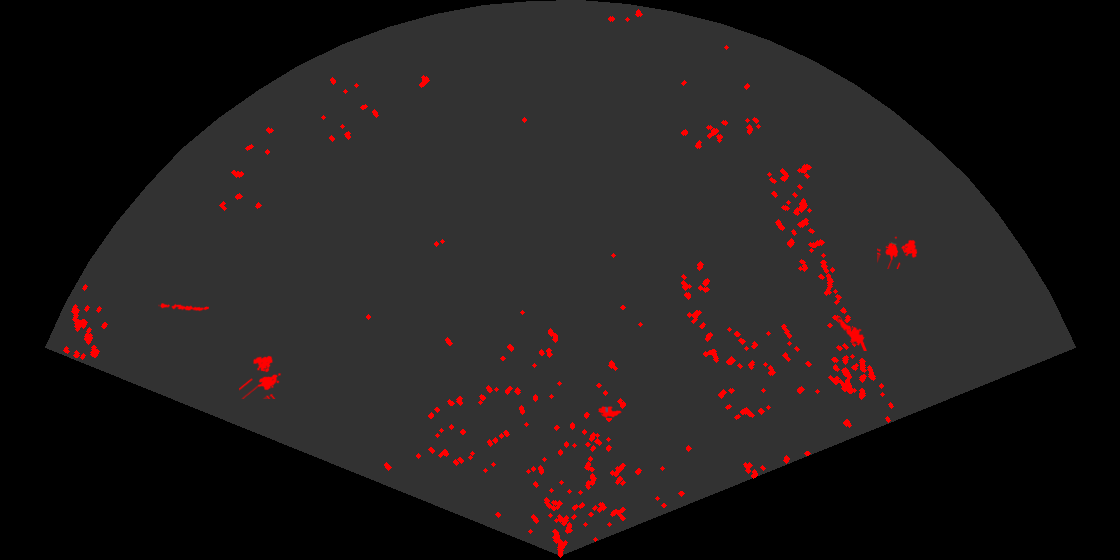AUV: (597, 404, 622, 418)
cage: (239, 354, 283, 399), (877, 235, 919, 269)
chain: (158, 302, 209, 313)
frogman: (835, 311, 868, 351)
